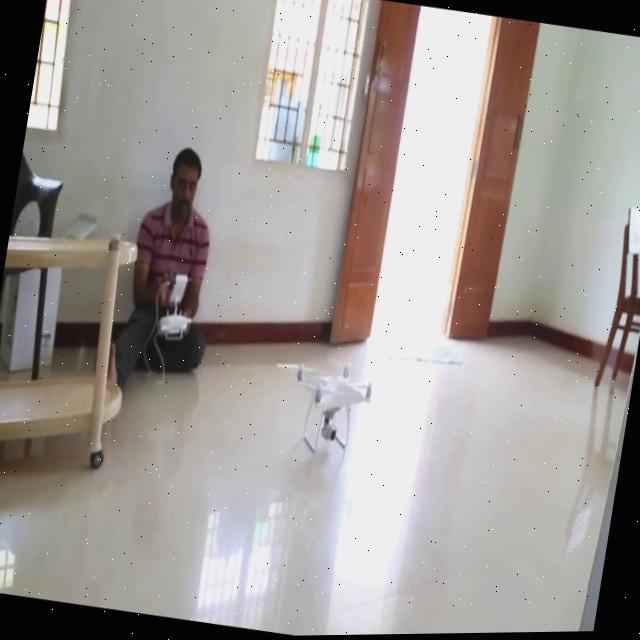drone: (252, 330, 413, 483)
